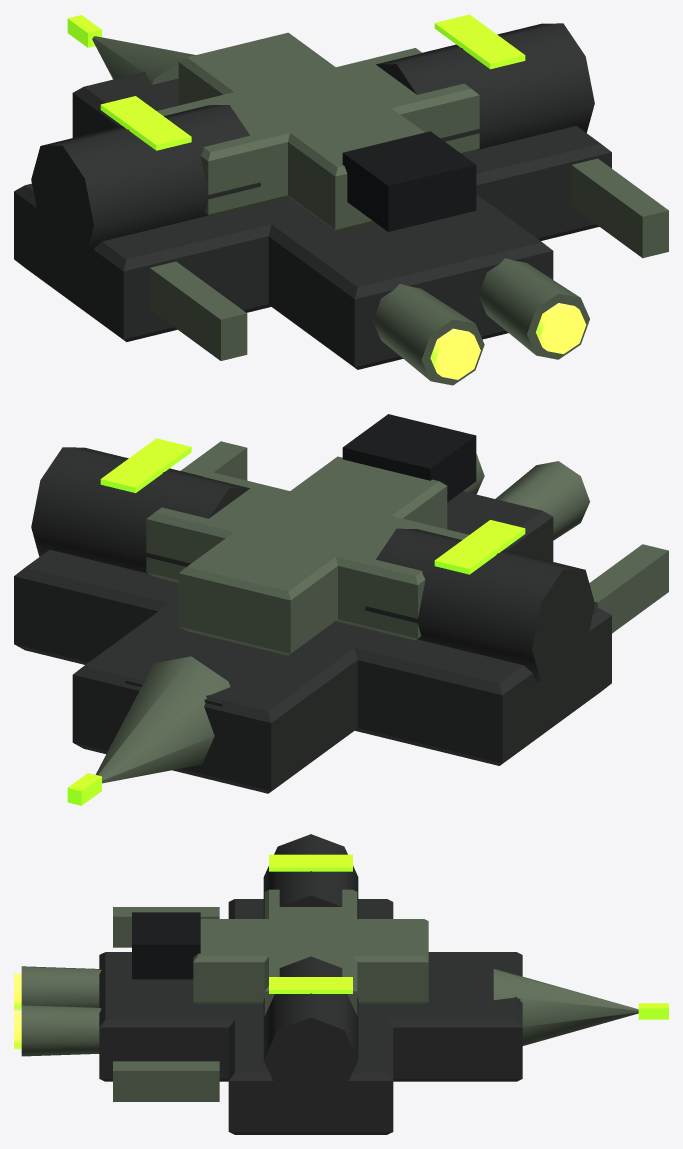
Rendered from Miner.glb.
3 renders of one model, top to bottom at view 1: azimuth 30°, elevation 25°; view 2: azimuth 150°, elevation 25°; view 3: azimuth 270°, elevation 25°, orthographic. The views are drawn at different scales.
Parts seen in each view (by area): view 1: miner_hull, miner_orepod (×2), miner_spine, miner_arm (×2), miner_engine_nacelle (×2), miner_bridge, miner_podband (×2), miner_engine_bell (×2), miner_drill, miner_drilltip; view 2: miner_hull, miner_spine, miner_orepod (×2), miner_drill, miner_bridge, miner_arm (×2), miner_podband (×2), miner_engine_nacelle, miner_drilltip; view 3: miner_hull, miner_spine, miner_orepod (×2), miner_engine_nacelle (×2), miner_arm (×2), miner_drill, miner_bridge, miner_podband (×2), miner_drilltip.
Part boxes in pixels (x1=…): miner_hull: x1=14, y1=71, x2=611, y2=369; miner_orepod (×2): x1=31, y1=23, x2=594, y2=259; miner_spine: x1=157, y1=32, x2=479, y2=231; miner_arm (×2): x1=150, y1=158, x2=668, y2=360; miner_engine_nacelle (×2): x1=373, y1=258, x2=589, y2=385; miner_bridge: x1=342, y1=131, x2=476, y2=231; miner_podband (×2): x1=100, y1=14, x2=525, y2=150; miner_engine_bell (×2): x1=430, y1=303, x2=586, y2=379; miner_drill: x1=92, y1=36, x2=195, y2=84; miner_drilltip: x1=67, y1=15, x2=101, y2=47; miner_hull: x1=14, y1=491, x2=611, y2=793; miner_spine: x1=146, y1=456, x2=468, y2=655; miner_orepod (×2): x1=31, y1=447, x2=594, y2=683; miner_drill: x1=95, y1=656, x2=230, y2=783; miner_bridge: x1=342, y1=414, x2=476, y2=502; miner_arm (×2): x1=180, y1=441, x2=668, y2=633; miner_podband (×2): x1=100, y1=438, x2=525, y2=574; miner_engine_nacelle: x1=495, y1=461, x2=589, y2=540; miner_drilltip: x1=67, y1=773, x2=101, y2=805; miner_hull: x1=99, y1=899, x2=522, y2=1134; miner_spine: x1=193, y1=889, x2=428, y2=1015; miner_orepod (×2): x1=263, y1=834, x2=358, y2=1102; miner_engine_nacelle (×2): x1=21, y1=966, x2=101, y2=1056; miner_arm (×2): x1=113, y1=907, x2=219, y2=1101; miner_drill: x1=493, y1=968, x2=638, y2=1045; miner_bridge: x1=132, y1=912, x2=200, y2=979; miner_podband (×2): x1=269, y1=854, x2=352, y2=993; miner_drilltip: x1=638, y1=1003, x2=668, y2=1019.
Bounding box in the file's own units: 22.8 × 7.56 × 34.4.
